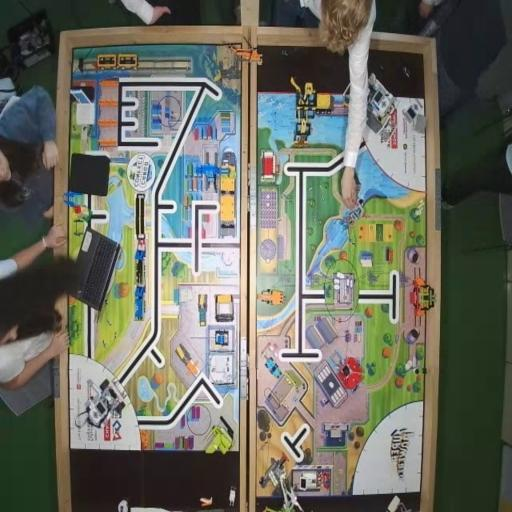lego_robot: (74, 378, 126, 433), (365, 72, 398, 134)
